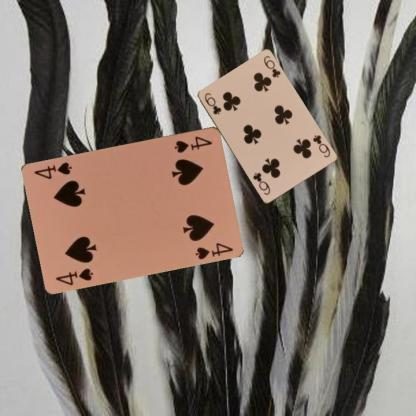4s: (53, 264, 95, 286), (172, 133, 214, 154)
6c: (310, 132, 331, 159), (201, 90, 222, 116)
